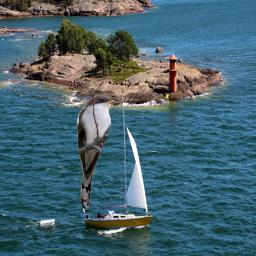Cuckoo: (76, 94, 120, 208)
